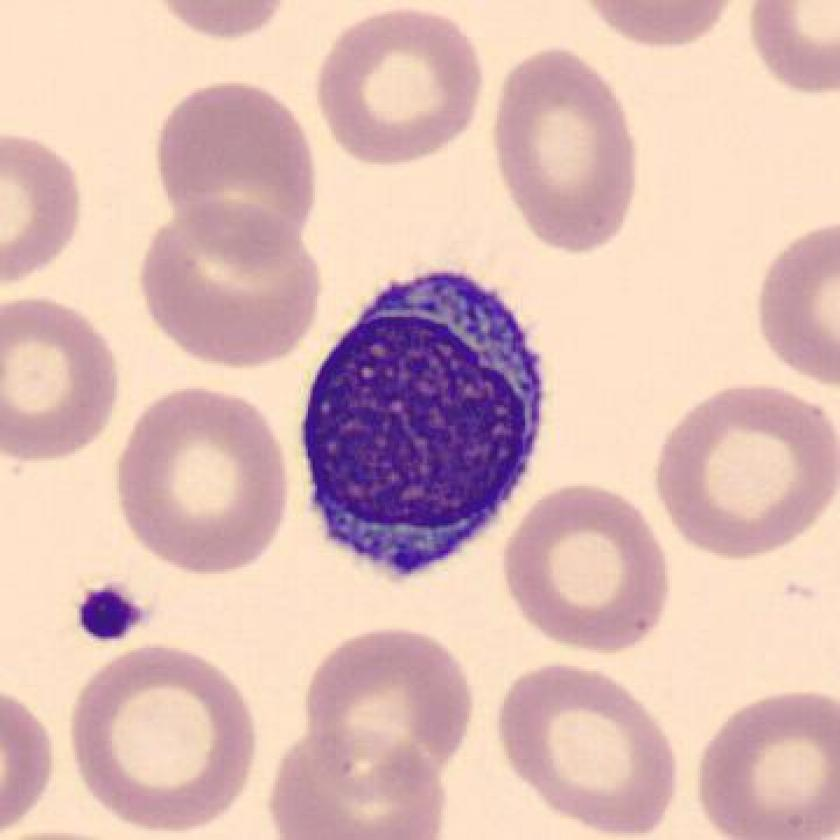lymphocyte: (288, 258, 556, 596)
